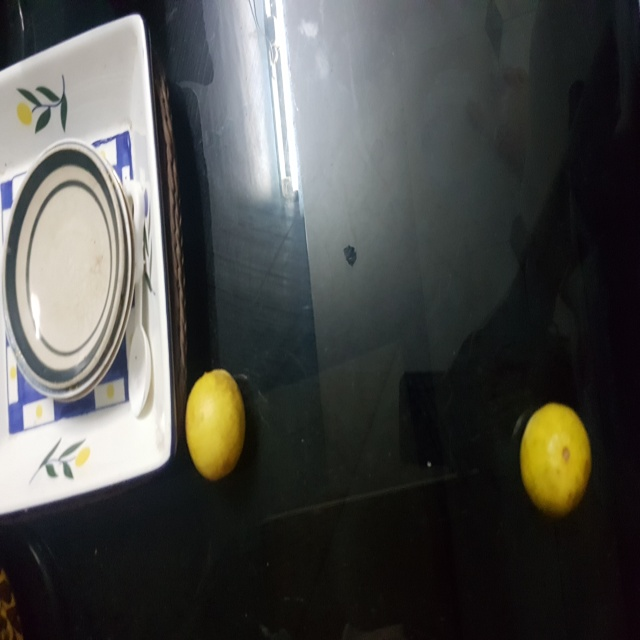lemon: (517, 400, 594, 516), (181, 367, 249, 484)
